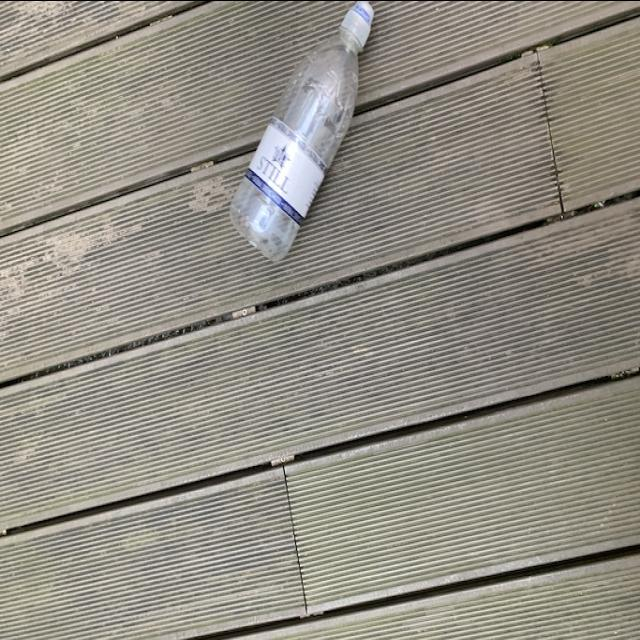litter: (229, 0, 373, 265)
